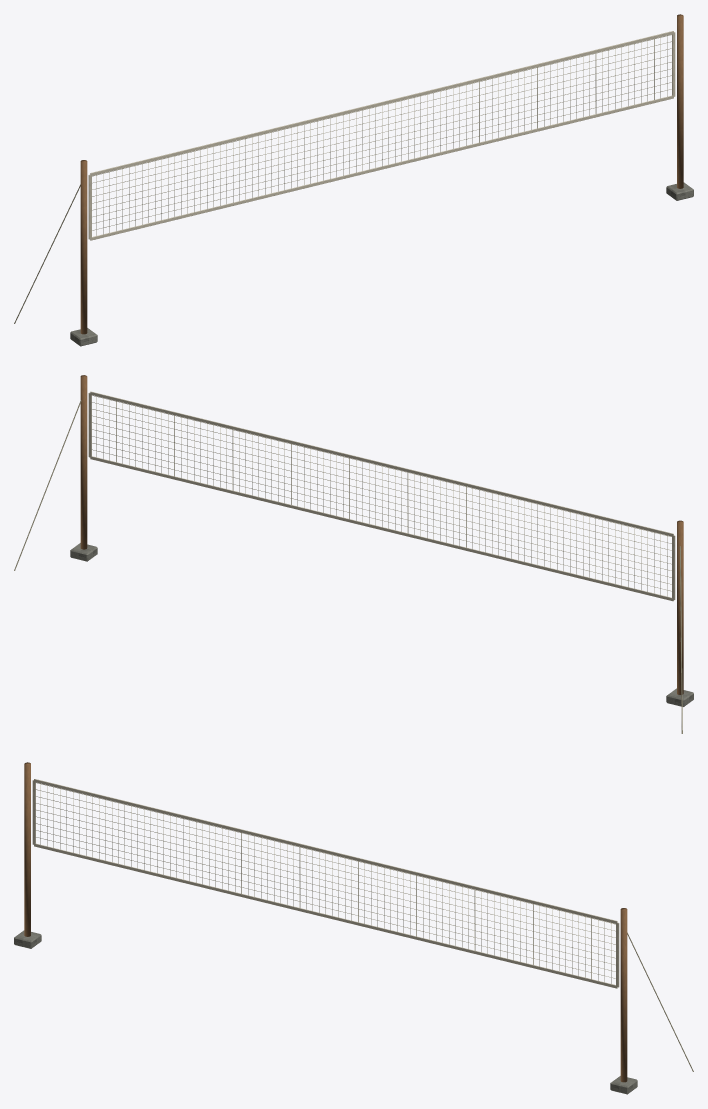
The model's file is volleyball_net.glb.
3 views of the same model, one above another, from view 1: azimuth 30°, elevation 25°; view 2: azimuth 150°, elevation 25°; view 3: azimuth 330°, elevation 25° (orthographic).
Parts seen in each view (by area): view 1: volleyball_net_Mesh; view 2: volleyball_net_Mesh; view 3: volleyball_net_Mesh.
Part boxes in pixels (x1=…): volleyball_net_Mesh: x1=14, y1=14, x2=693, y2=346; volleyball_net_Mesh: x1=14, y1=375, x2=693, y2=733; volleyball_net_Mesh: x1=14, y1=762, x2=693, y2=1094.
Size of the model in its own units: 10.32 by 2.65 by 1.05.
Materials: 4 (4 with a texture image).
